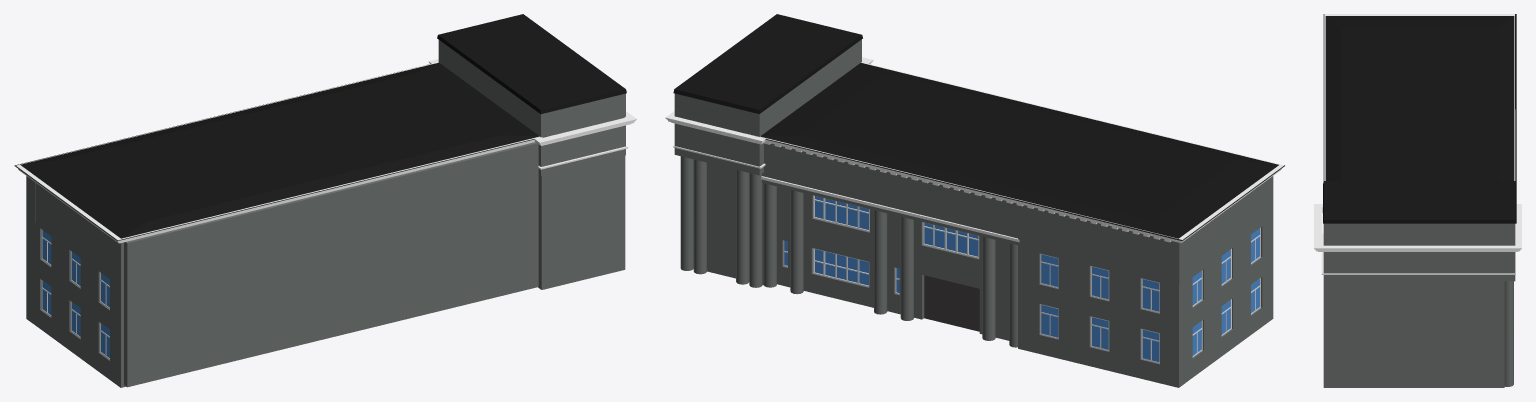
File: garage.glb
3 renders of one model, left to right at view 1: azimuth 30°, elevation 25°; view 2: azimuth 150°, elevation 25°; view 3: azimuth 270°, elevation 25°, orthographic. The views are drawn at different scales.
Parts seen in each view (by area): view 1: garazh; view 2: garazh; view 3: garazh.
Boxes of the visible parts, x1,y1,x2,y2 form: garazh: (14,14,636,387); garazh: (665,14,1284,387); garazh: (1314,14,1521,387).
Size of the model in its own units: 15.04 by 5.04 by 5.63.
